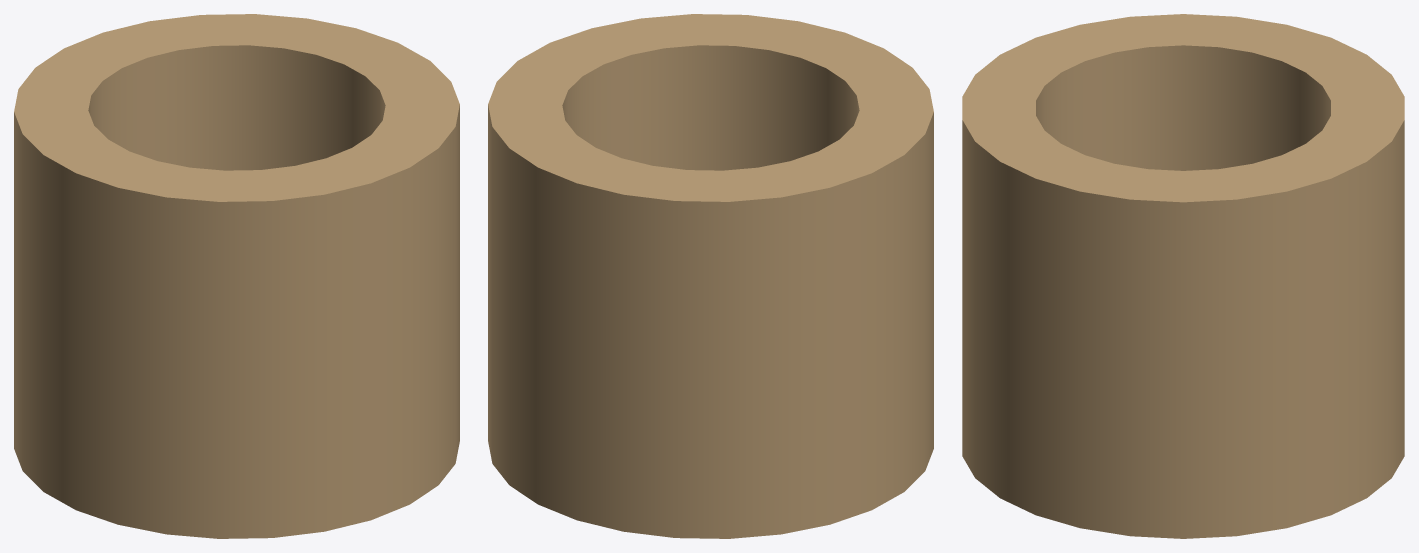
File: standard-bushing.glb
3 views of the same model, side by side, from view 1: azimuth 30°, elevation 25°; view 2: azimuth 150°, elevation 25°; view 3: azimuth 270°, elevation 25° (orthographic).
Bounding box in the file's own units: 0.012 × 0.01 × 0.0119.
